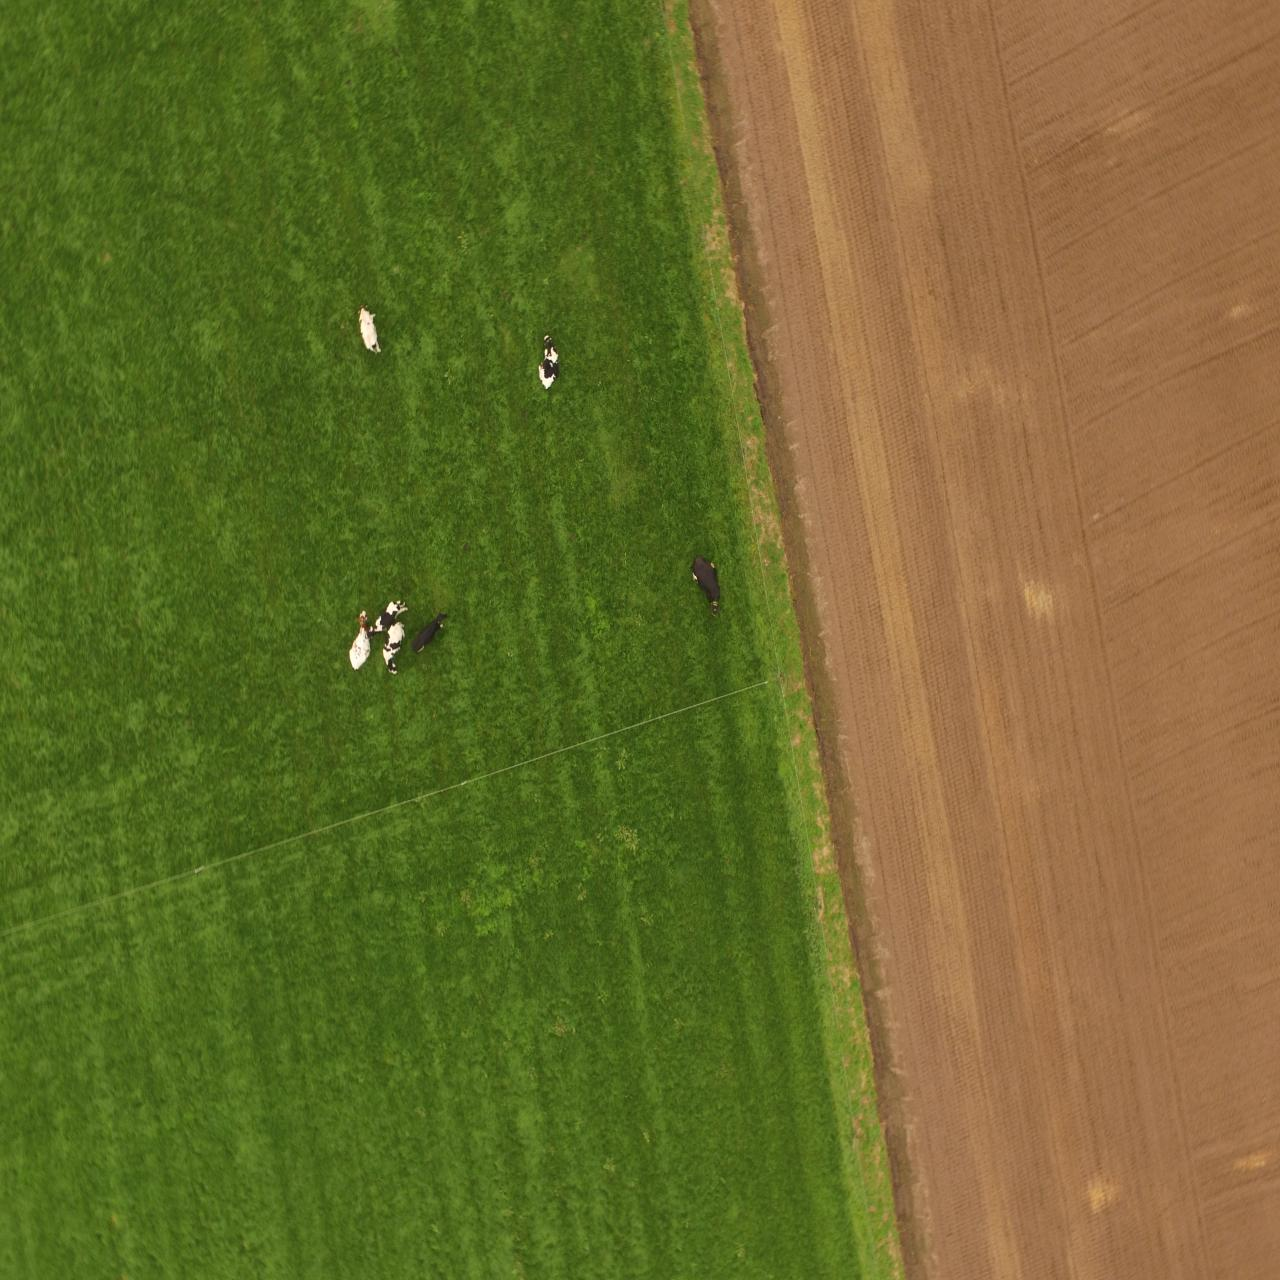cow: (689, 551, 723, 619), (413, 607, 449, 659), (347, 606, 369, 673), (375, 595, 408, 636), (354, 306, 380, 356), (542, 334, 560, 402), (383, 614, 402, 679)
